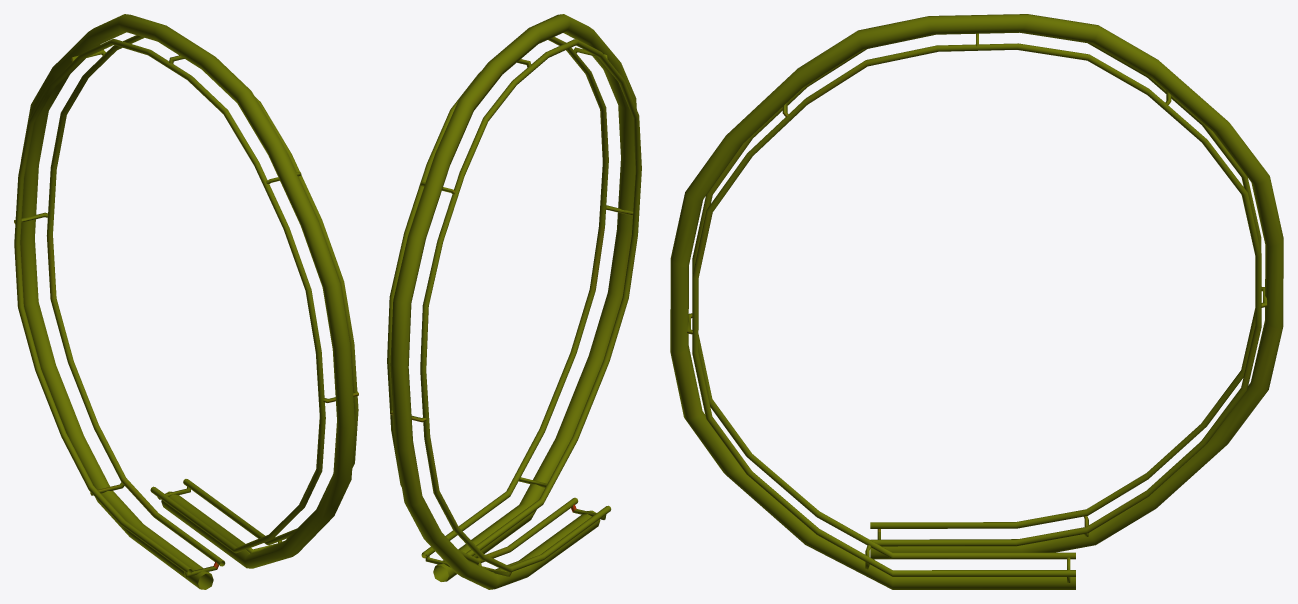
3 views of the same model, side by side, from view 1: azimuth 30°, elevation 25°; view 2: azimuth 150°, elevation 25°; view 3: azimuth 270°, elevation 25° (orthographic). The views are drawn at different scales.
Parts seen in each view (by area): view 1: Mesh; view 2: Mesh; view 3: Mesh.
Boxes of the visible parts, left/top/right/bottom form: Mesh: left=14, top=14, right=358, bottom=589; Mesh: left=387, top=14, right=641, bottom=589; Mesh: left=670, top=14, right=1283, bottom=589.
Bounding box in the file's own units: 166 × 842 × 839.
